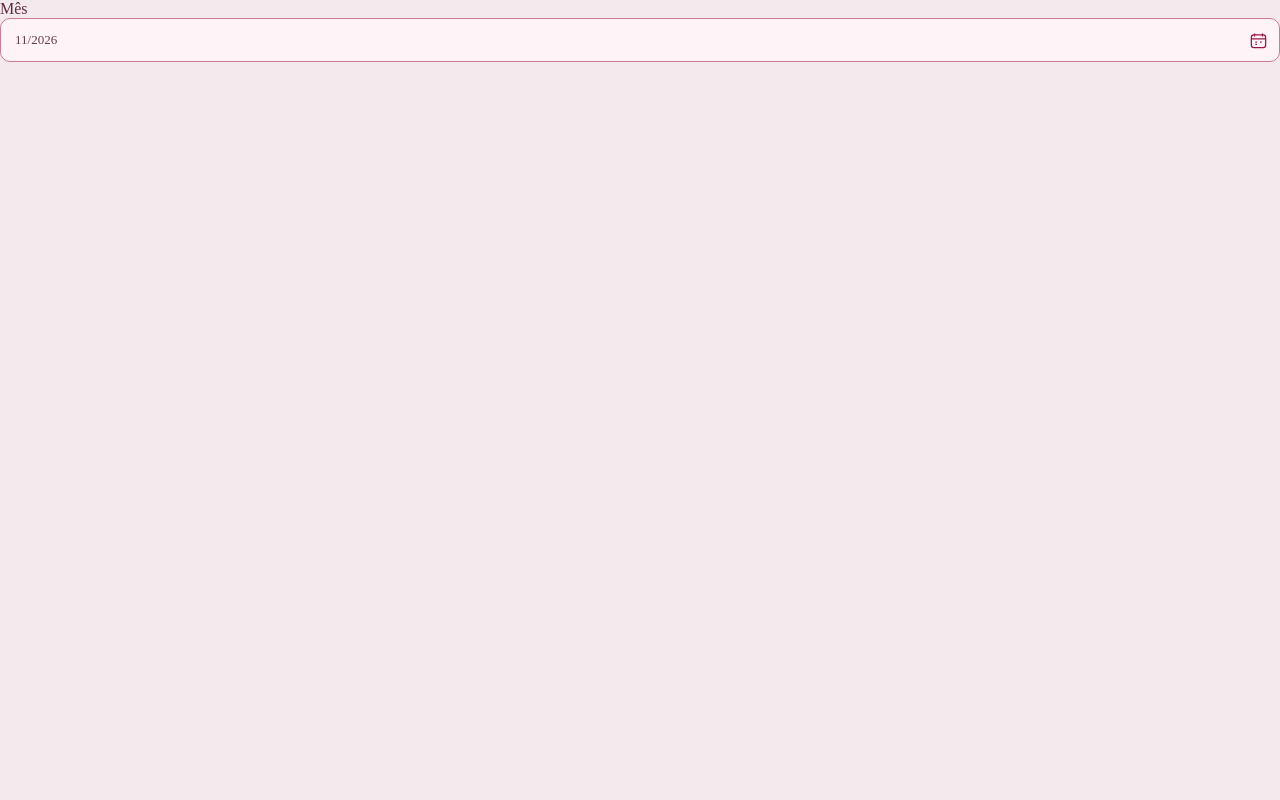
Test: month picker preserves yyyy-mm and lets a user choose years without scrolling through every month
The image size is (1280, 800).
Later steps or results of the test are not shown.
Click the button with class "salon-temporal-open". click: click(1258, 40)
box: [1239,21,1277,59]
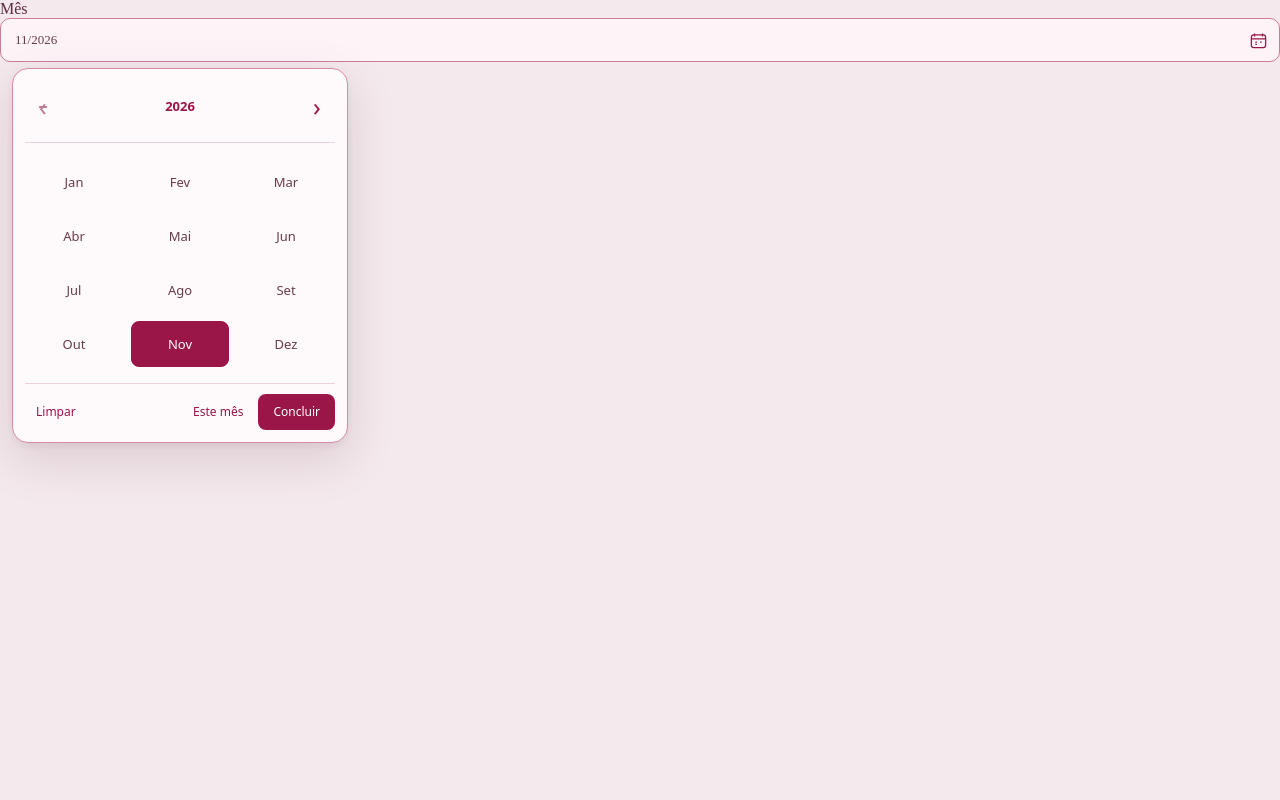
Check: the button "dez" is shown, box [237,321,335,367]
